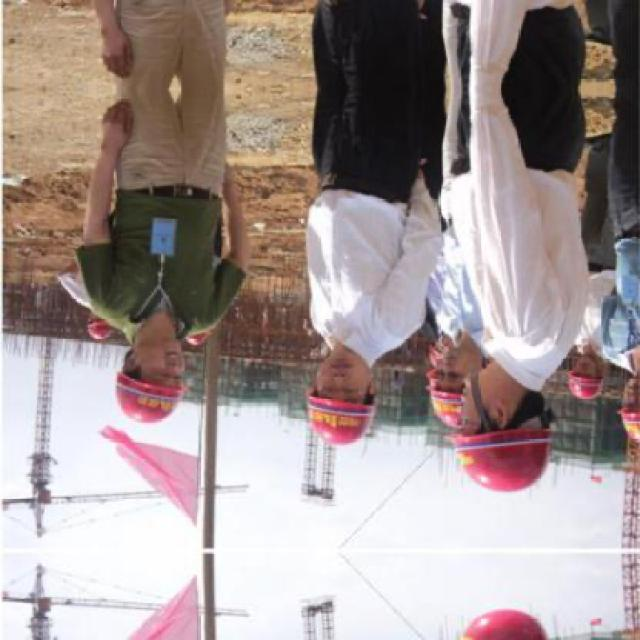con casco: (66, 255, 244, 462), (424, 312, 568, 478), (278, 285, 410, 453)
